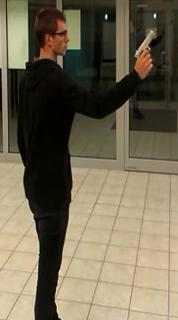pistol: (133, 29, 157, 69)
